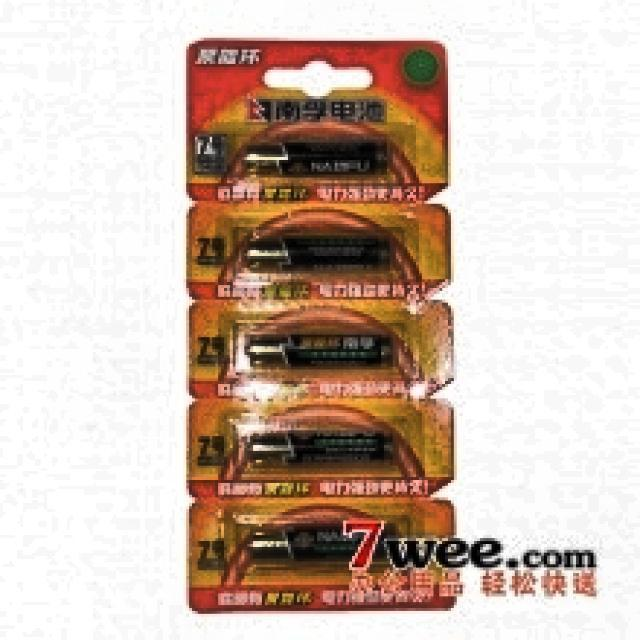battery: (188, 39, 459, 611)
